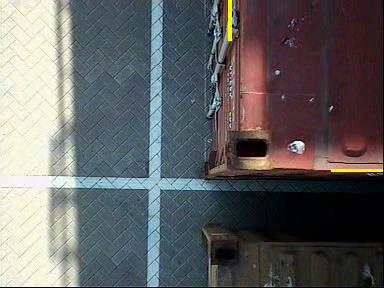groundmarker_2: (66, 1, 232, 111)
